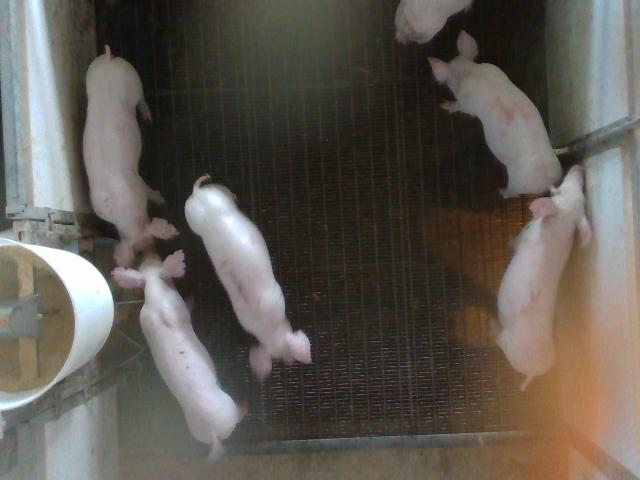pig-3: (185, 175, 310, 379)
pig-4: (429, 31, 561, 198)
